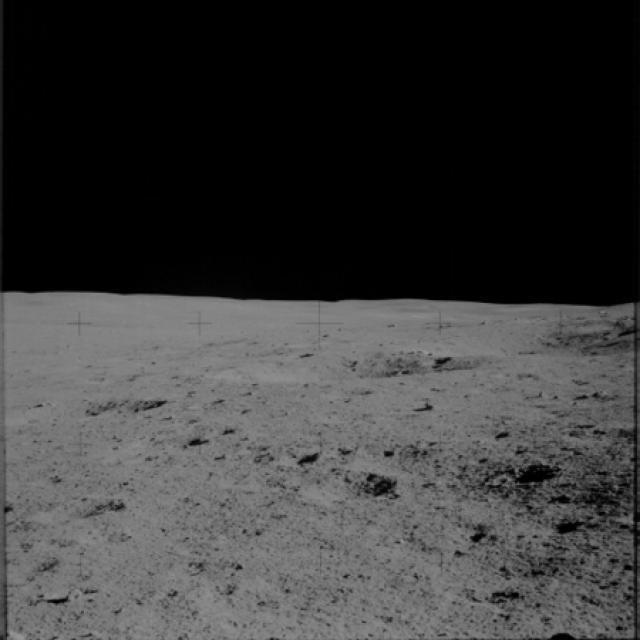crater: (192, 341, 493, 395), (0, 384, 185, 433), (19, 478, 138, 538), (285, 467, 401, 521), (0, 541, 64, 594), (517, 506, 593, 546), (482, 453, 566, 484), (262, 442, 328, 474), (434, 520, 493, 550), (155, 430, 220, 454)
rock: (415, 397, 452, 417)
